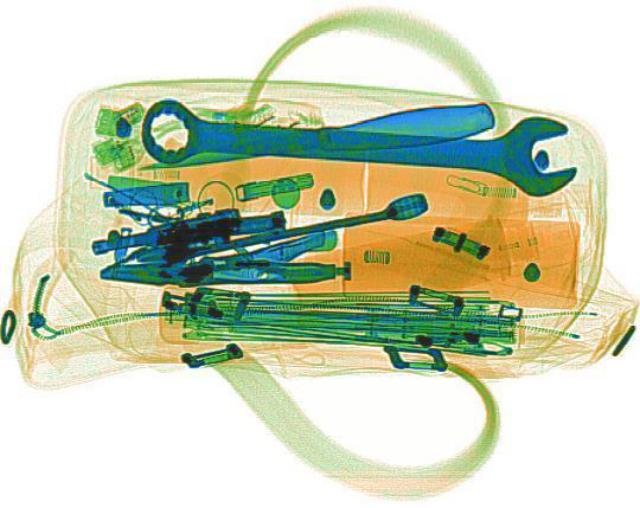Gun: (84, 200, 288, 252), (96, 256, 334, 284)
Knife: (132, 95, 496, 182)
Wrench: (133, 88, 581, 197)
